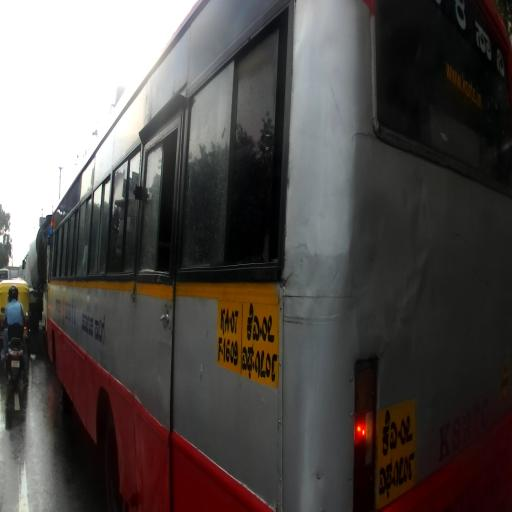street_light_0: (60, 162, 78, 176)
